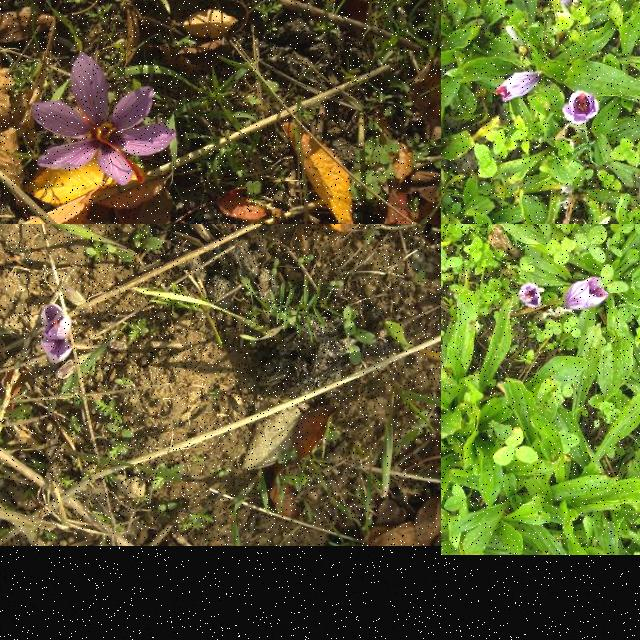flower: (31, 52, 172, 186), (40, 305, 72, 365), (564, 278, 608, 310), (494, 72, 540, 102), (562, 91, 600, 127), (519, 284, 543, 306)
